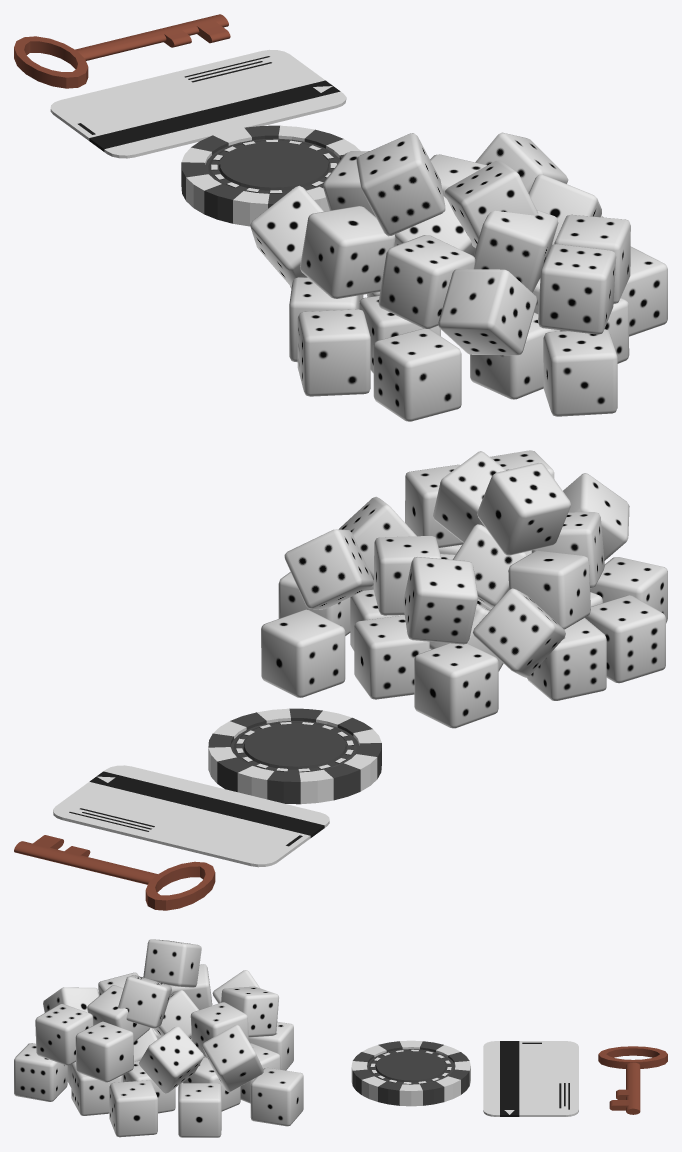
File: casino_functionals.fbx
3 views of the same model, one above another, from view 1: azimuth 30°, elevation 25°; view 2: azimuth 150°, elevation 25°; view 3: azimuth 270°, elevation 25° (orthographic). The views are drawn at different scales.
Visible parts, largest first — view 1: DiceBlob, Keycard, Chip, Key; view 2: DiceBlob, Keycard, Chip, Key; view 3: DiceBlob, Keycard, Chip, Key.
Boxes of the visible parts, x1,y1,x2,y2 form: DiceBlob: (250,132,667,421); Keycard: (50,49,346,158); Chip: (181,125,360,226); Key: (14,14,230,88); DiceBlob: (261,450,667,728); Keycard: (53,765,329,867); Chip: (208,708,381,804); Key: (14,835,215,910); DiceBlob: (14,939,303,1137); Keycard: (483,1041,578,1116); Chip: (351,1040,470,1106); Key: (598,1046,667,1114).
Bounding box in the file's own units: 500 × 277 × 1260.
